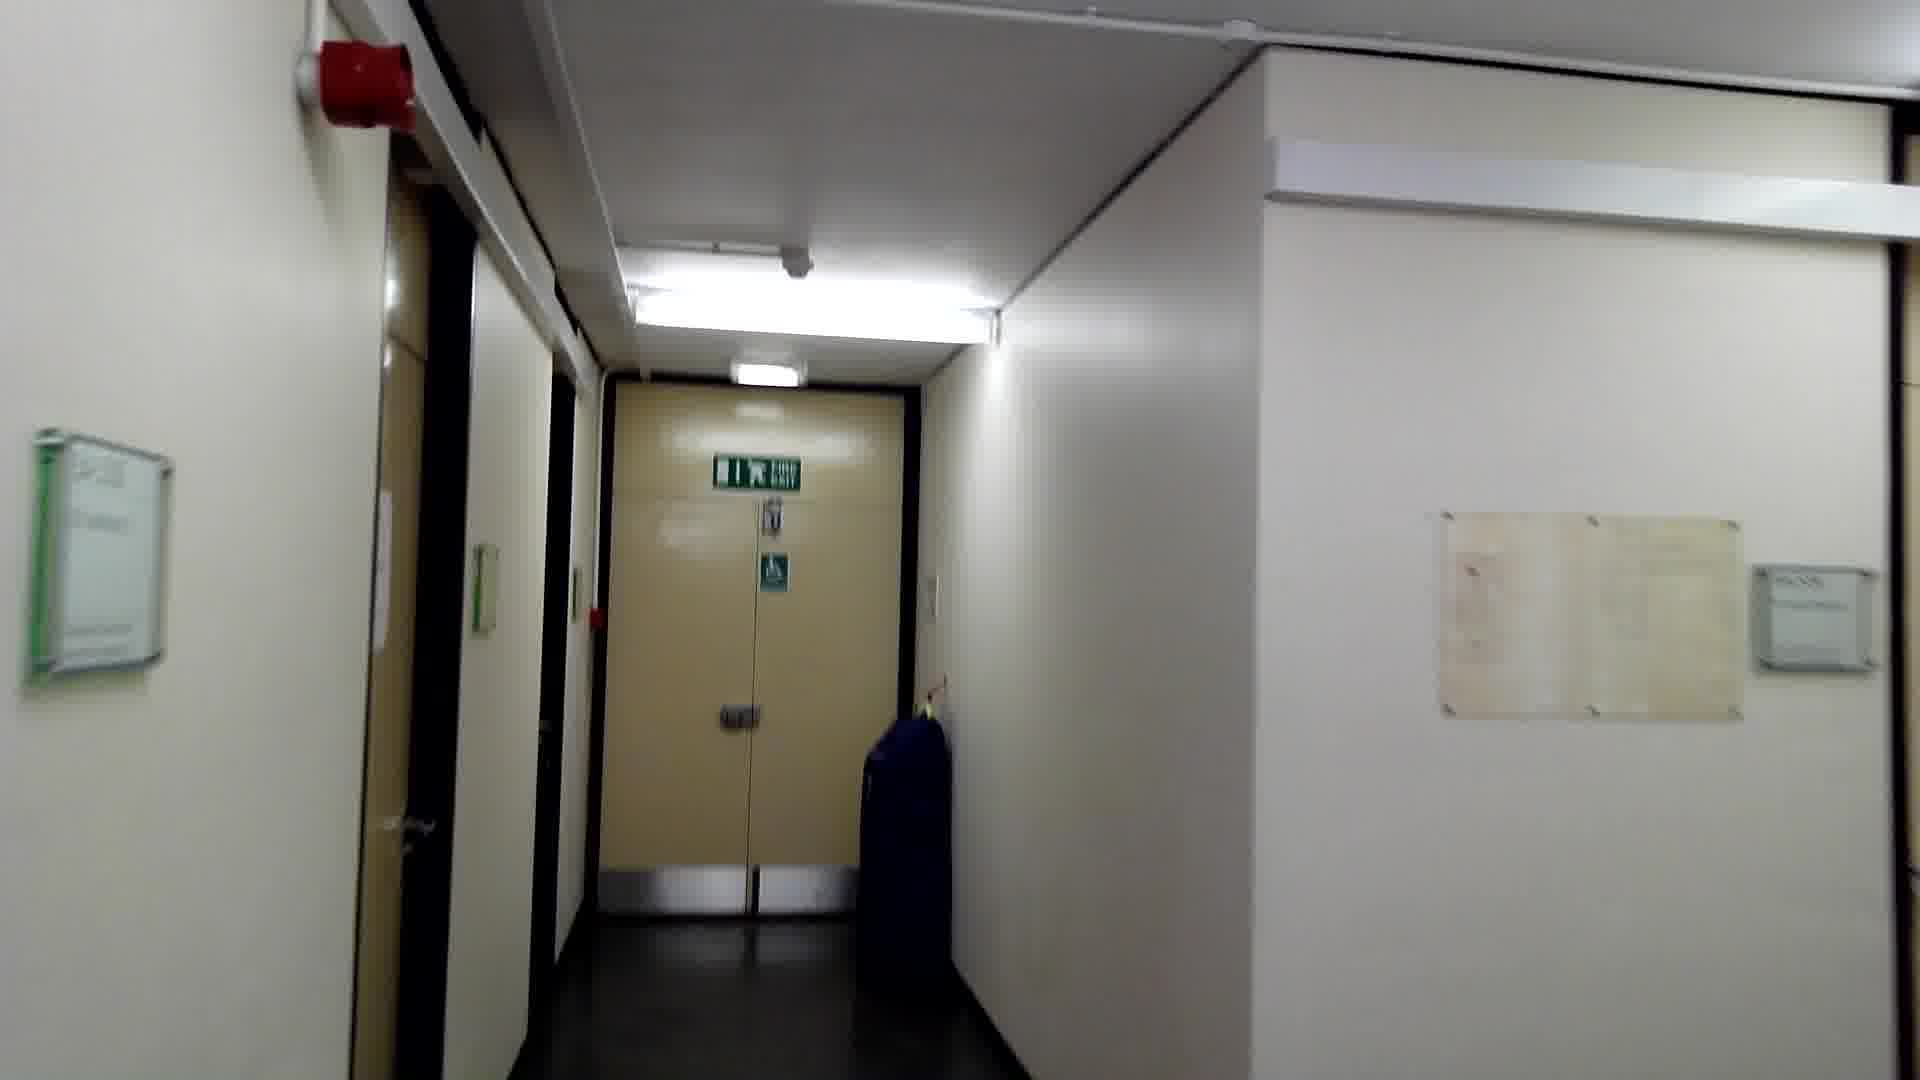Bin: (855, 698, 963, 989)
Door: (347, 164, 484, 1080)
